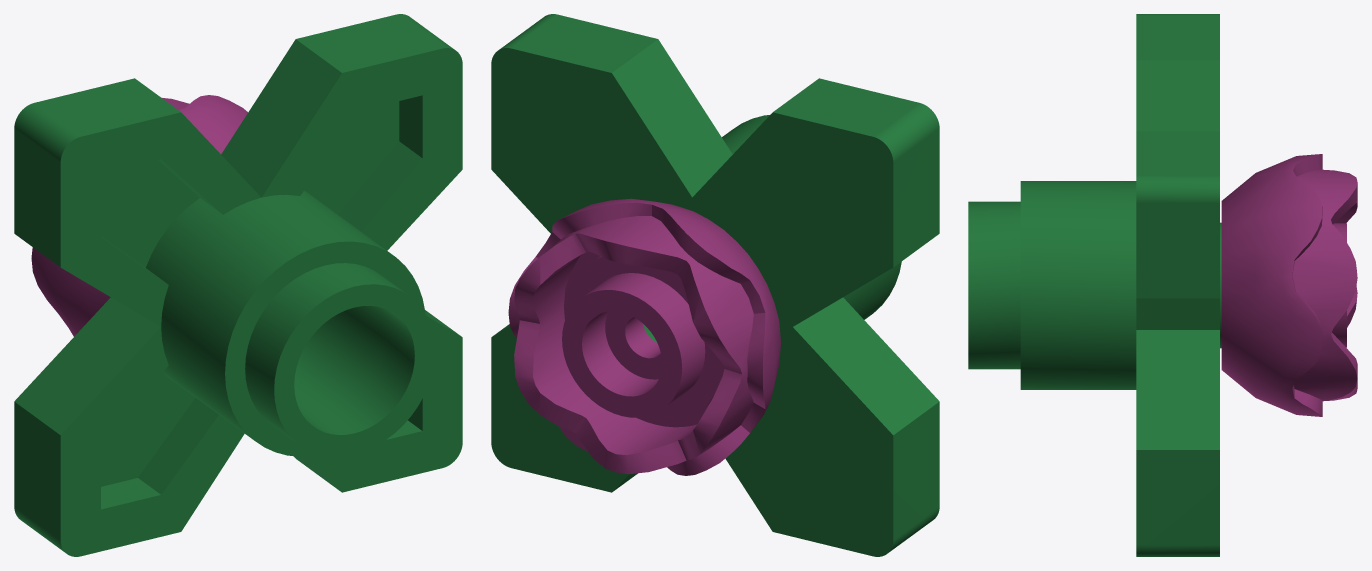
Rendered from flor de loto con hojas.dae.
The picture shows the model from 3 angles, left to right: view 1: azimuth 30°, elevation 25°; view 2: azimuth 150°, elevation 25°; view 3: azimuth 270°, elevation 25°; orthographic projection. The views are drawn at different scales.
Visible parts, largest first — view 1: Inner-Node-UntitledModel_dot_io-1, Inner-Node-UntitledModel_dot_io-0; view 2: Inner-Node-UntitledModel_dot_io-1, Inner-Node-UntitledModel_dot_io-0; view 3: Inner-Node-UntitledModel_dot_io-1, Inner-Node-UntitledModel_dot_io-0.
Boxes of the visible parts, x1,y1,x2,y2 form: Inner-Node-UntitledModel_dot_io-1: [14, 14, 462, 556]; Inner-Node-UntitledModel_dot_io-0: [31, 95, 247, 336]; Inner-Node-UntitledModel_dot_io-1: [491, 14, 939, 556]; Inner-Node-UntitledModel_dot_io-0: [508, 198, 780, 475]; Inner-Node-UntitledModel_dot_io-1: [968, 14, 1221, 556]; Inner-Node-UntitledModel_dot_io-0: [1221, 154, 1357, 416].
Bounding box in the file's own units: 39.75 × 39.64 × 36.88.
